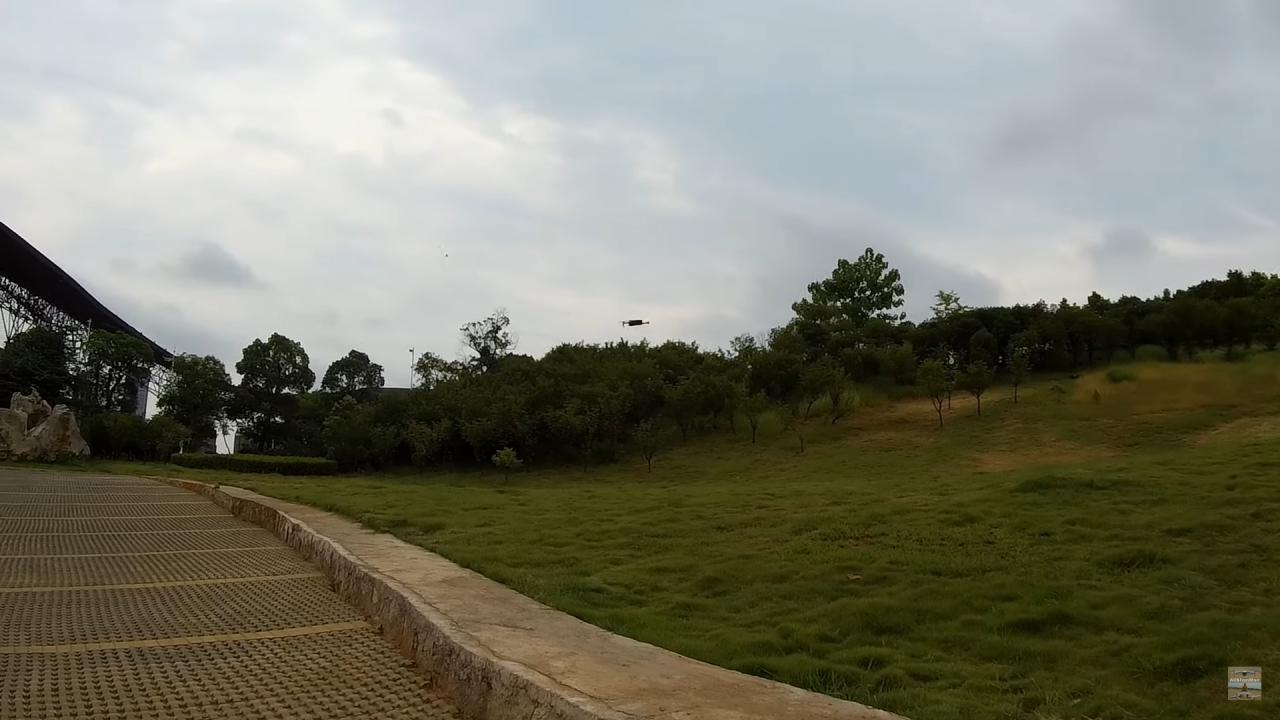Drone: (615, 313, 656, 332)
